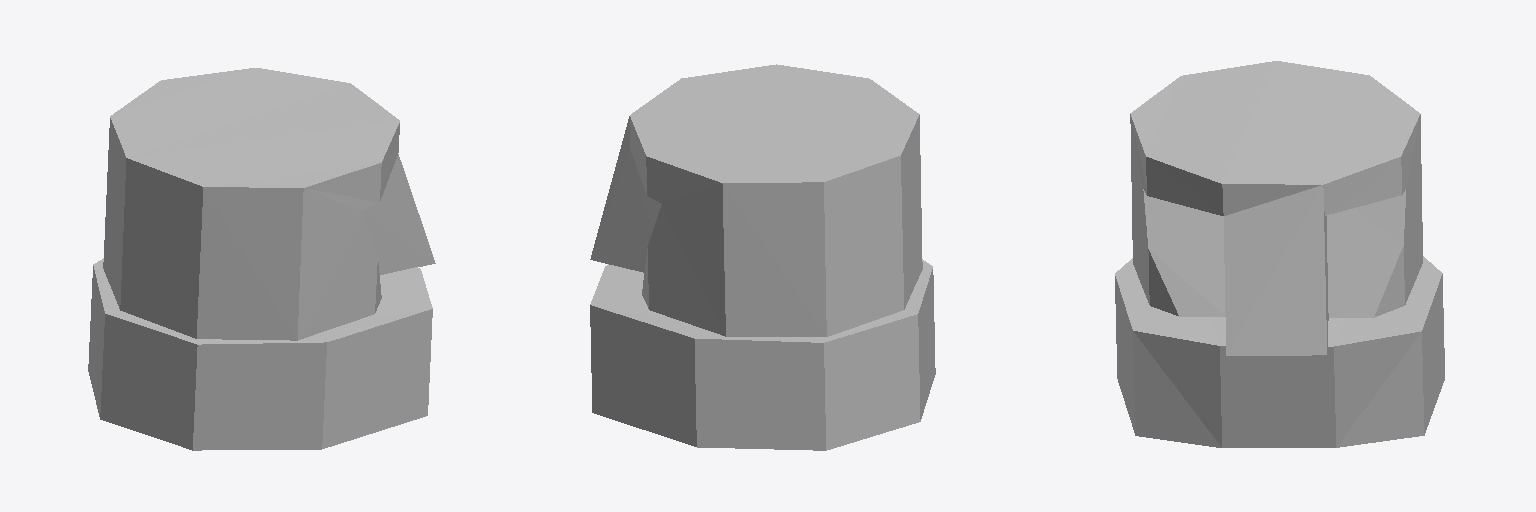
Rendered from head2.obj.
3 renders of one model, left to right at view 1: azimuth 30°, elevation 25°; view 2: azimuth 150°, elevation 25°; view 3: azimuth 270°, elevation 25°, orthographic.
Size of the model in its own units: 4.83 by 3.93 by 4.48.